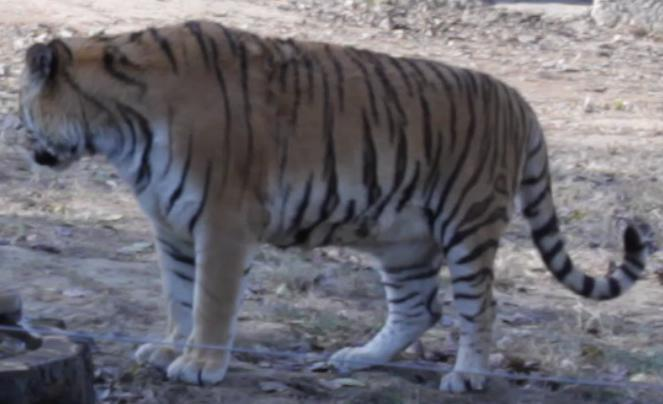tiger: (19, 20, 645, 391)
